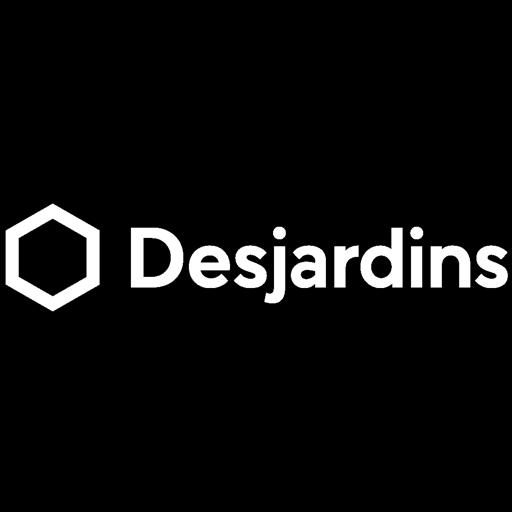Desjardins: (0, 198, 512, 314)
